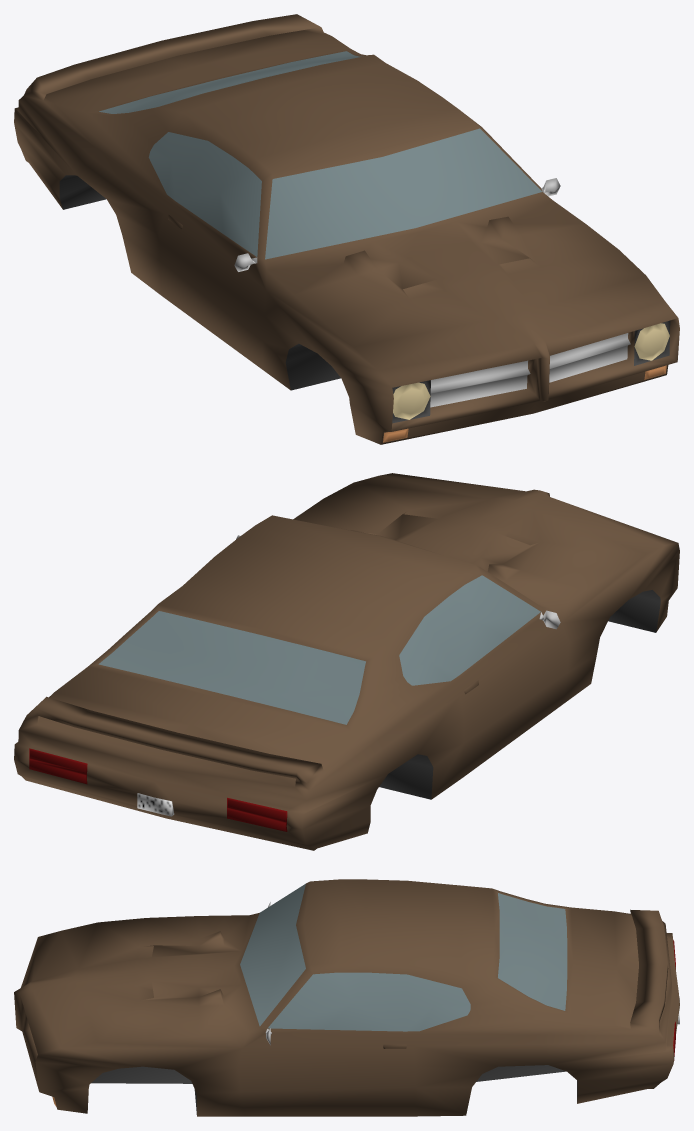
Rendered from pontiac gto.fbx.
3 views of the same model, one above another, from view 1: azimuth 30°, elevation 25°; view 2: azimuth 150°, elevation 25°; view 3: azimuth 270°, elevation 25° (orthographic). The views are drawn at different scales.
Parts seen in each view (by area): view 1: pontiac gto; view 2: pontiac gto; view 3: pontiac gto.
Part boxes in pixels (bbox=[...]): pontiac gto: bbox=[14, 14, 679, 444]; pontiac gto: bbox=[14, 473, 679, 850]; pontiac gto: bbox=[14, 879, 679, 1116].
Bounding box in the file's own units: 3.04 × 1.44 × 6.38.
